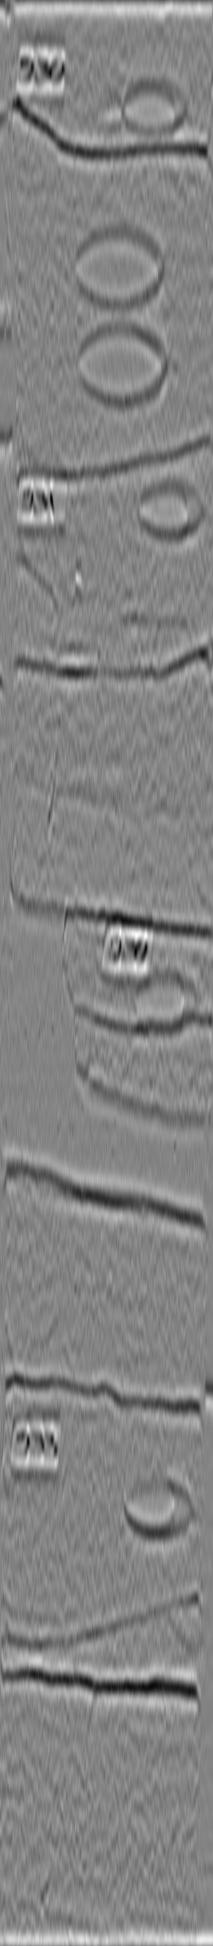hplug: (113, 66, 193, 144), (125, 964, 203, 1040), (119, 1468, 197, 1544), (133, 470, 209, 546)
scal: (69, 213, 168, 314), (73, 314, 175, 412)
vplug: (1, 890, 99, 1080)
